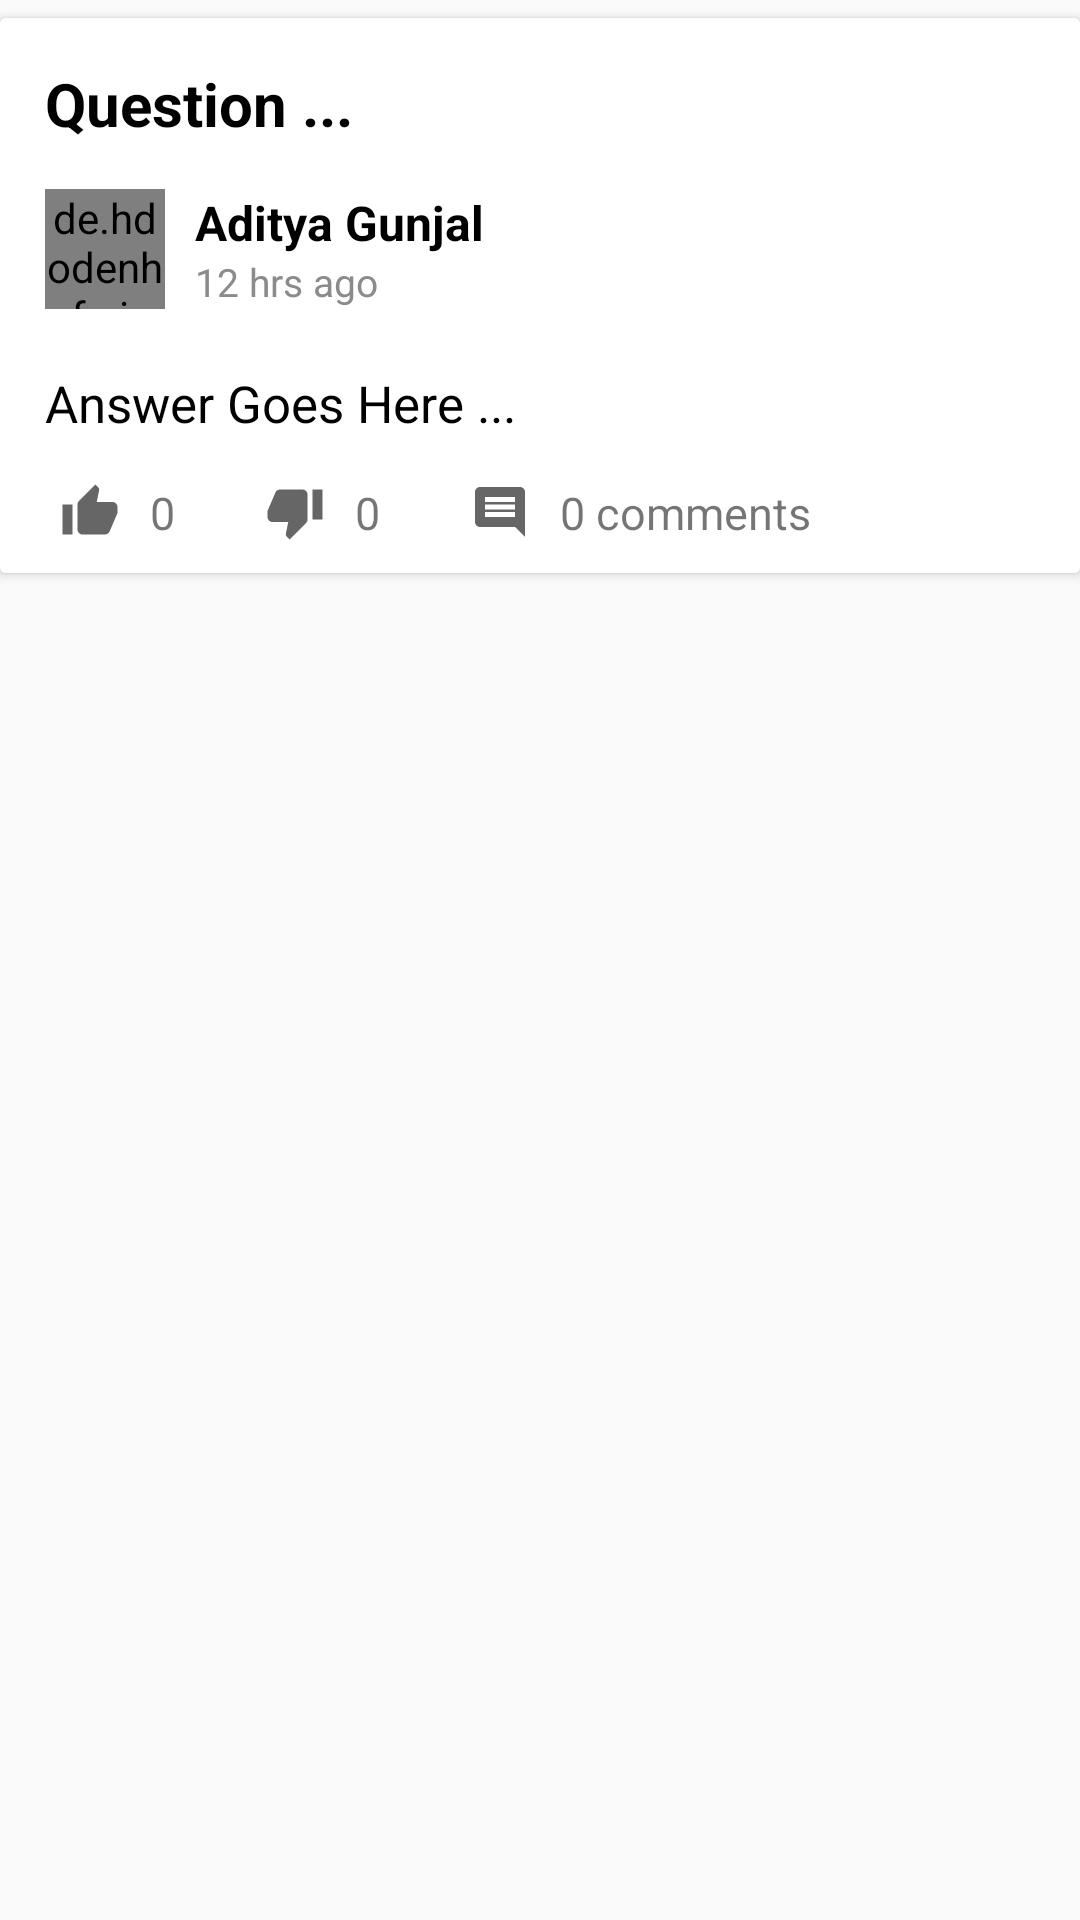

Where to tap for icons on this 1080 × 1920 app screen, as point (x, y):
downvote: point (295, 514)
upvote: point (90, 509)
